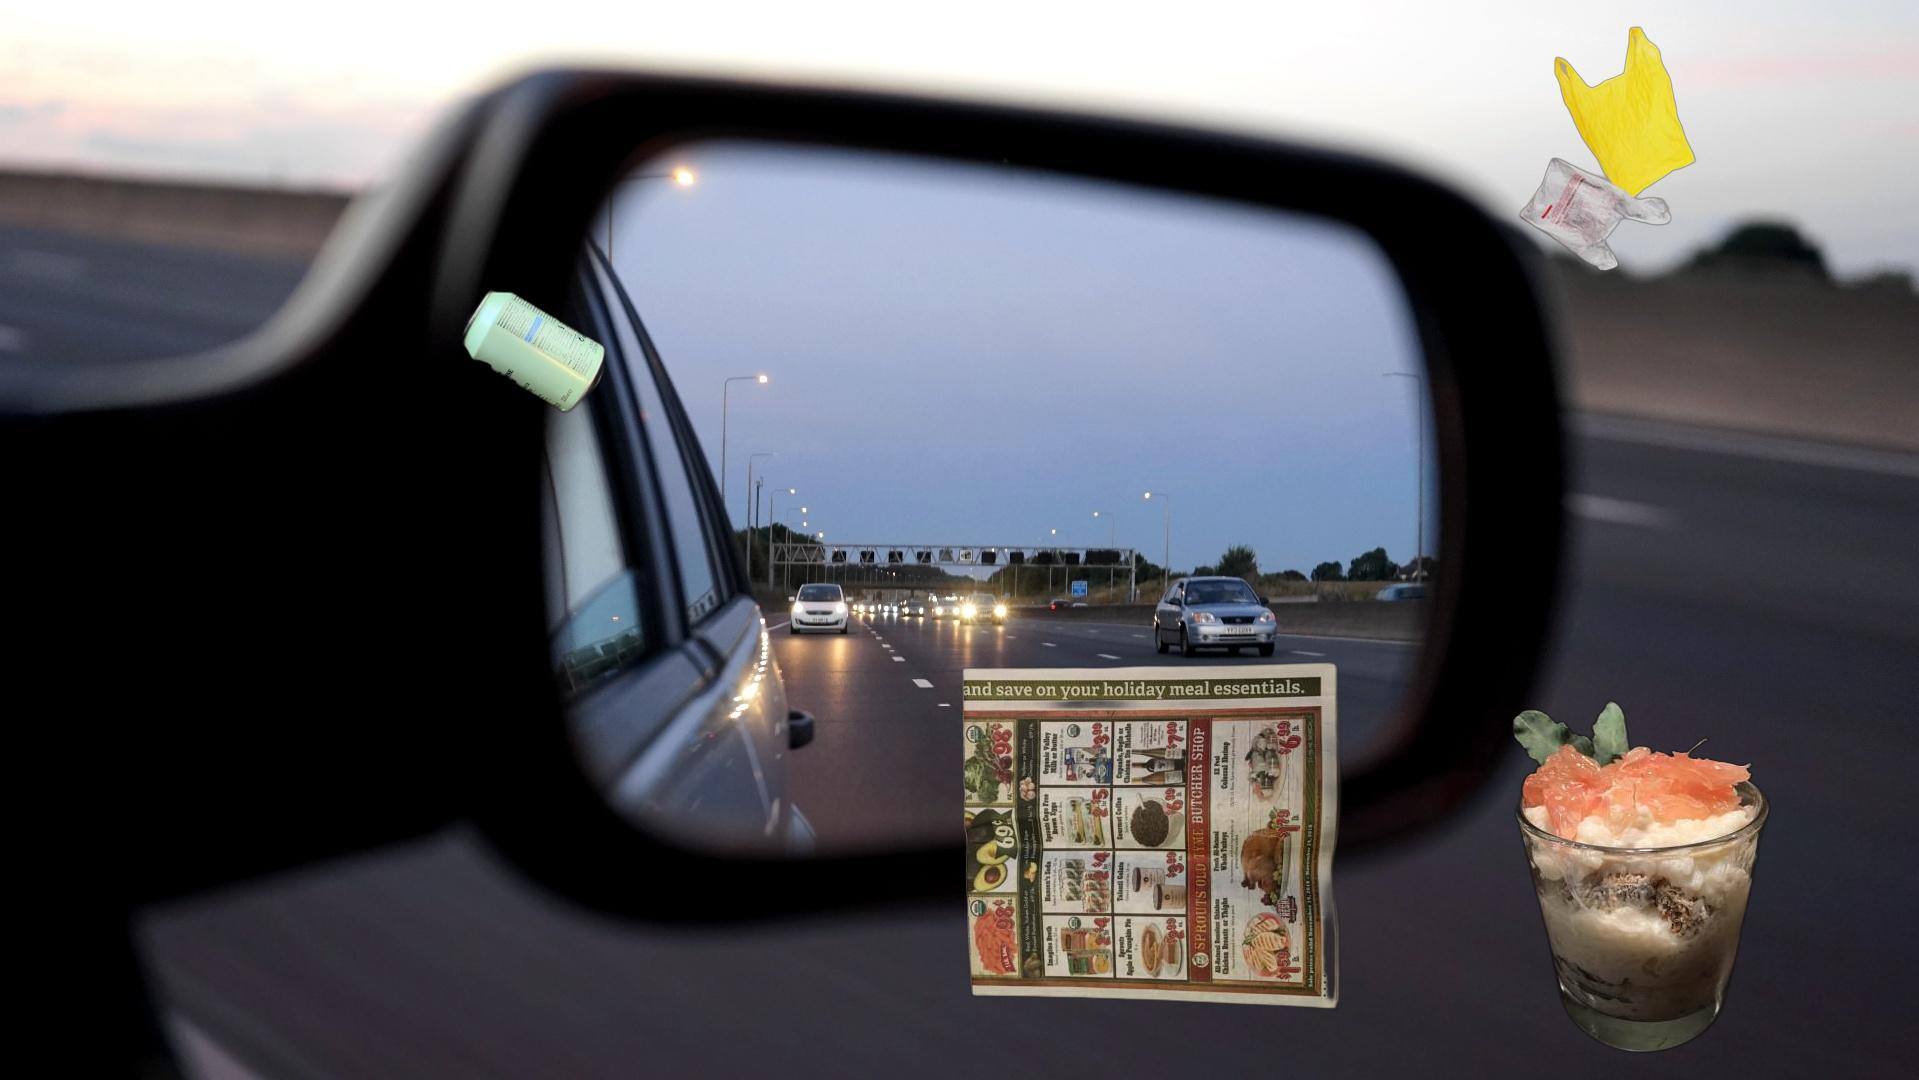biological: (1506, 698, 1775, 1056)
metal-cans: (457, 285, 610, 418)
paper: (958, 654, 1347, 1011)
plastic-bag: (1517, 24, 1698, 273)
